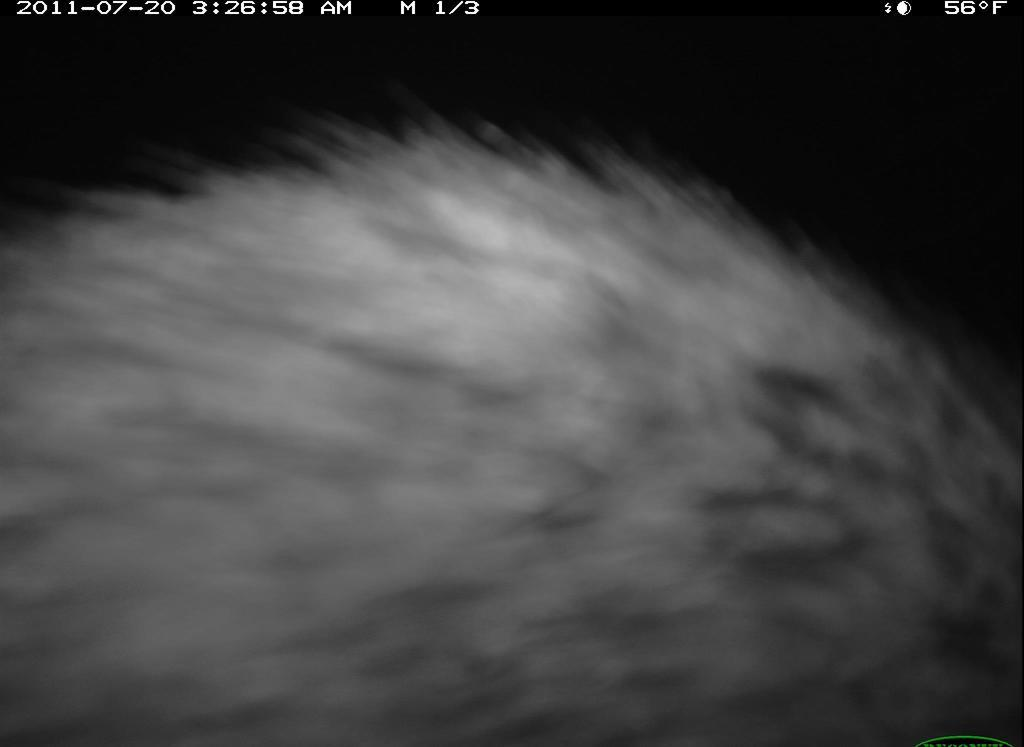raccoon: (4, 114, 1022, 747)
